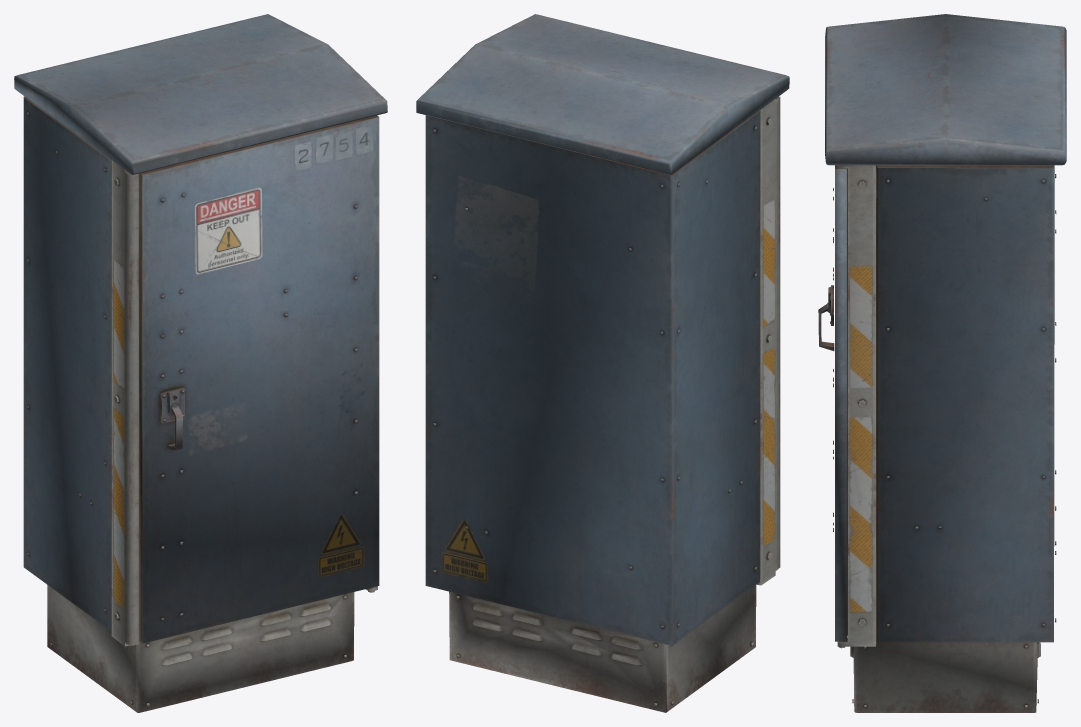
The model's file is utility_box_01.glb.
3 views of the same model, side by side, from view 1: azimuth 30°, elevation 25°; view 2: azimuth 150°, elevation 25°; view 3: azimuth 270°, elevation 25° (orthographic).
Parts seen in each view (by area): view 1: utility_box_01_box; view 2: utility_box_01_box; view 3: utility_box_01_box.
Boxes of the visible parts, x1,y1,x2,y2 form: utility_box_01_box: (14,14,387,712); utility_box_01_box: (416,14,789,712); utility_box_01_box: (818,14,1066,712).
Size of the model in its own units: 0.5182 by 1.12 by 0.4312.
1 material, 1 textured.
